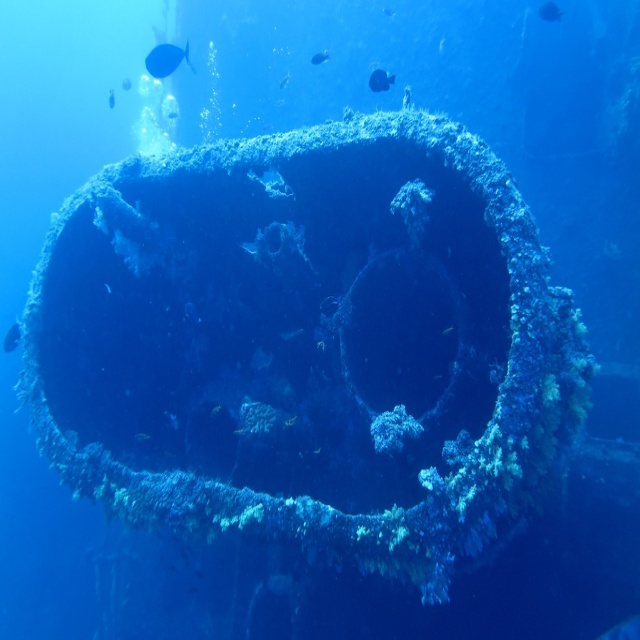Fish: (2, 0, 566, 455)
